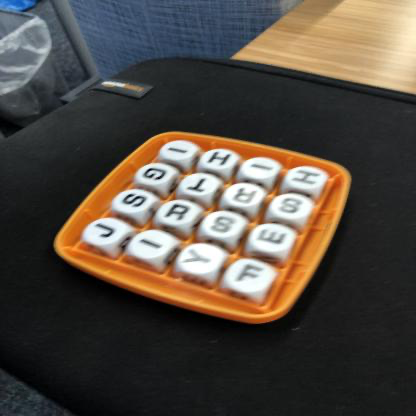e: (247, 223, 296, 256)
f: (227, 259, 275, 294)
g: (138, 164, 177, 187)
h: (285, 167, 326, 191), (202, 150, 237, 170)
i: (129, 230, 173, 260), (243, 158, 279, 180), (160, 143, 195, 161)
j: (81, 219, 127, 249)
r: (156, 201, 198, 229), (223, 183, 267, 208)
s: (201, 210, 245, 239), (269, 195, 313, 220), (111, 191, 155, 216)
t: (177, 173, 218, 198)
y: (177, 242, 224, 275)
